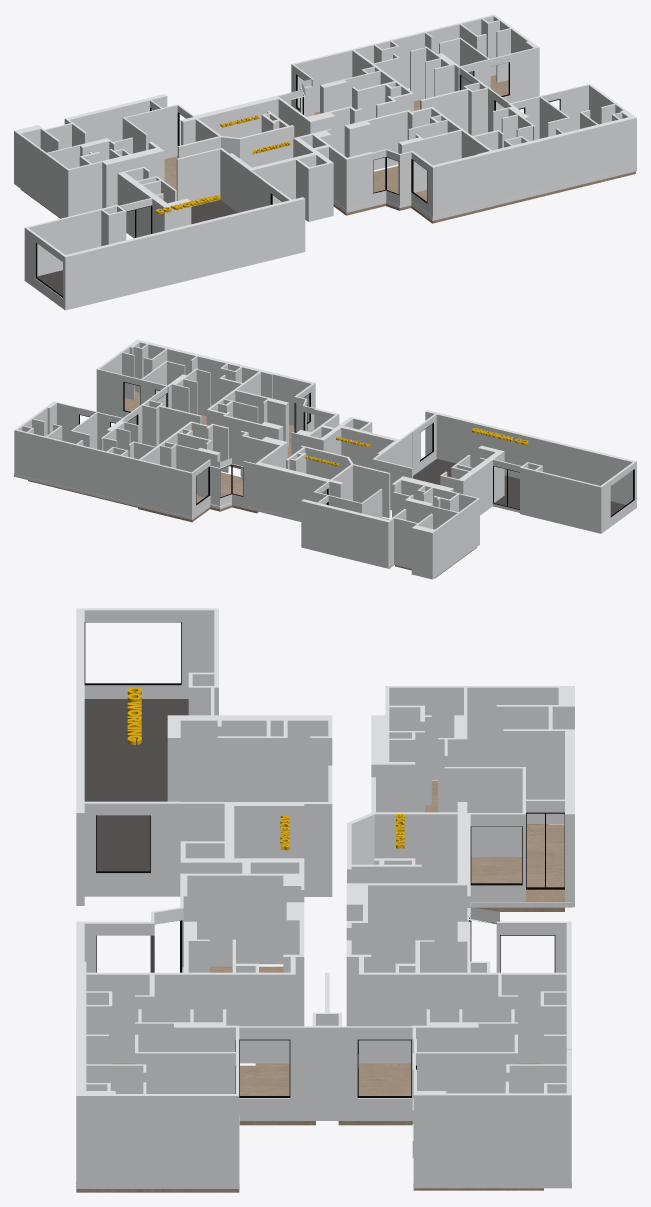
File: planta-2.glb
3 views of the same model, one above another, from view 1: azimuth 30°, elevation 25°; view 2: azimuth 150°, elevation 25°; view 3: azimuth 270°, elevation 25° (orthographic). The views are drawn at different scales.
Parts seen in each view (by area): view 1: todo, tipo-8, tipo-7, tipo-13; view 2: todo, tipo-5; view 3: todo, tipo-13, tipo-7, tipo-6, Text.005.
Part boxes in pixels (<box>): todo: <box>14,14,636,310</box>; tipo-8: <box>333,166,494,223</box>; tipo-7: <box>494,171,635,208</box>; tipo-13: <box>20,156,177,218</box>; todo: <box>14,339,636,579</box>; tipo-5: <box>138,472,258,522</box>; todo: <box>76,608,574,1188</box>; tipo-13: <box>425,781,564,911</box>; tipo-7: <box>76,1067,315,1192</box>; tipo-6: <box>338,1067,543,1190</box>; Text.005: <box>127,687,141,744</box>.
Size of what is drawn, in the model's own units: 35.42 by 3.77 by 15.31.
11 materials, 8 textured.
